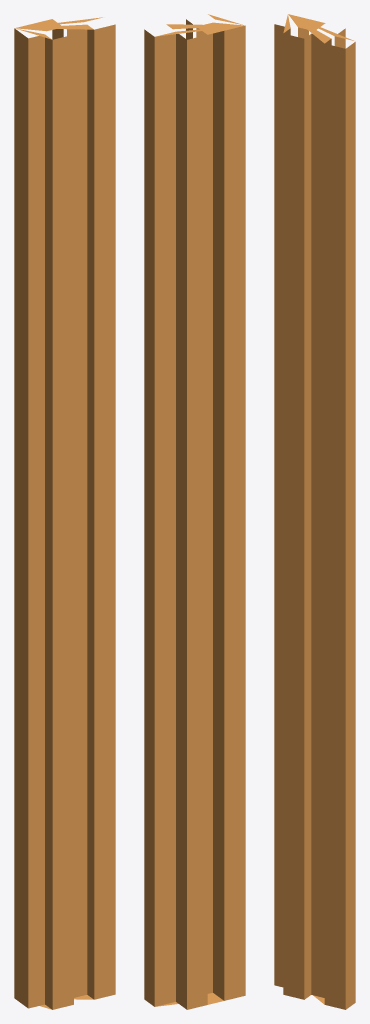
Rendered from carrot.glb.
The picture shows the model from 3 angles, left to right: view 1: azimuth 30°, elevation 25°; view 2: azimuth 210°, elevation 25°; view 3: azimuth 330°, elevation 25°; orthographic projection.
Parts seen in each view (by area): view 1: julienne_bundle; view 2: julienne_bundle; view 3: julienne_bundle.
Boxes of the visible parts, x1=… form: julienne_bundle: x1=14, y1=17, x2=115, y2=1009; julienne_bundle: x1=144, y1=14, x2=245, y2=1009; julienne_bundle: x1=274, y1=14, x2=355, y2=1009.
Size of the model in its own units: 0.086 by 1 by 0.04.
